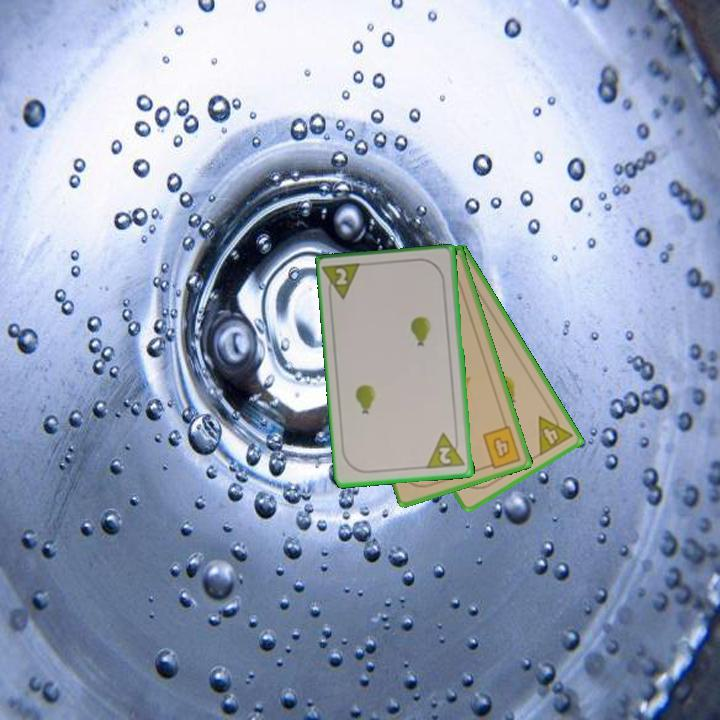2p: (321, 260, 366, 304), (424, 429, 468, 472)
4b: (479, 422, 524, 472)
4p: (535, 406, 576, 459)
